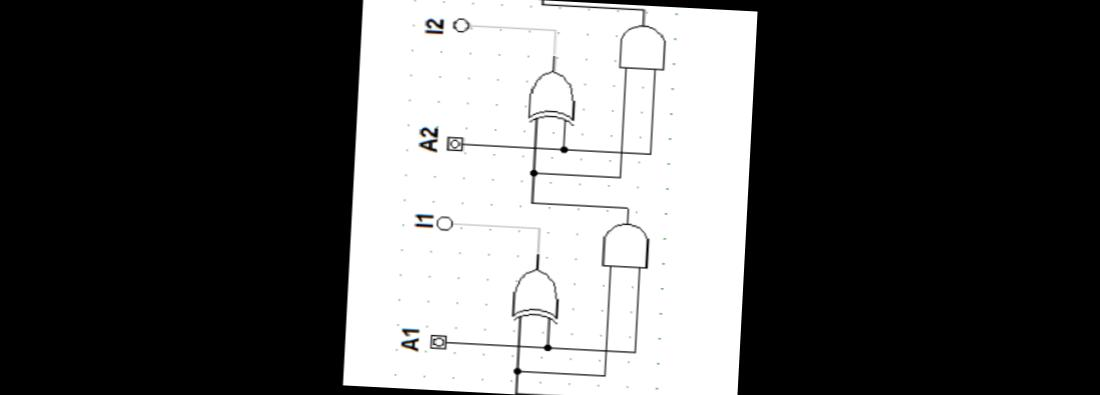and: (591, 211, 663, 277), (606, 12, 676, 76)
xor: (502, 245, 574, 333), (522, 50, 581, 130)
